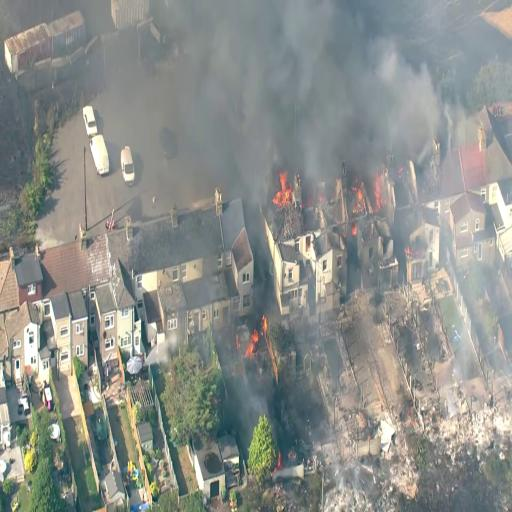fire: (241, 311, 269, 360), (369, 164, 390, 220), (275, 172, 295, 209)
smoke: (172, 1, 280, 140), (349, 34, 441, 160), (272, 0, 358, 106)
